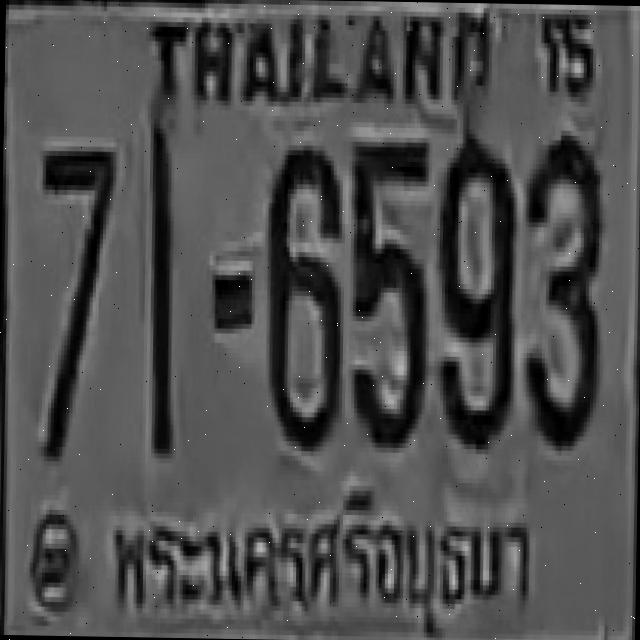3: (520, 129, 602, 441)
5: (346, 138, 428, 446)
6: (261, 142, 343, 444)
7: (34, 143, 114, 454)
9: (432, 133, 514, 444)
Ayutthaya: (95, 466, 539, 640)
